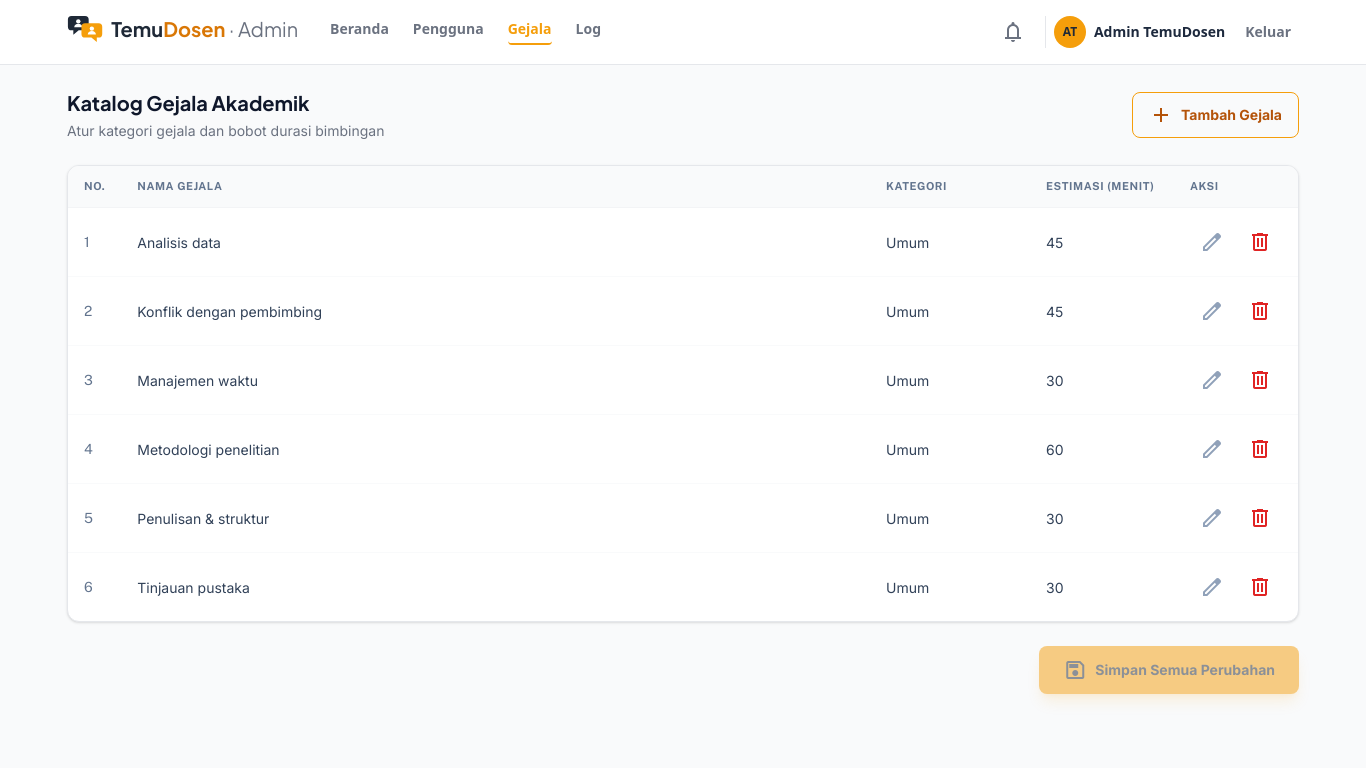
it: SymptomConfig (S-10) › adds a new editable row when "Tambah Gejala" is clicked
Expected: the text "Analisis data" is shown, [137, 234, 221, 250]
// Click "Tambah Gejala"
Click the button "Tambah Gejala" at (1215,115), box [1132, 92, 1299, 138]
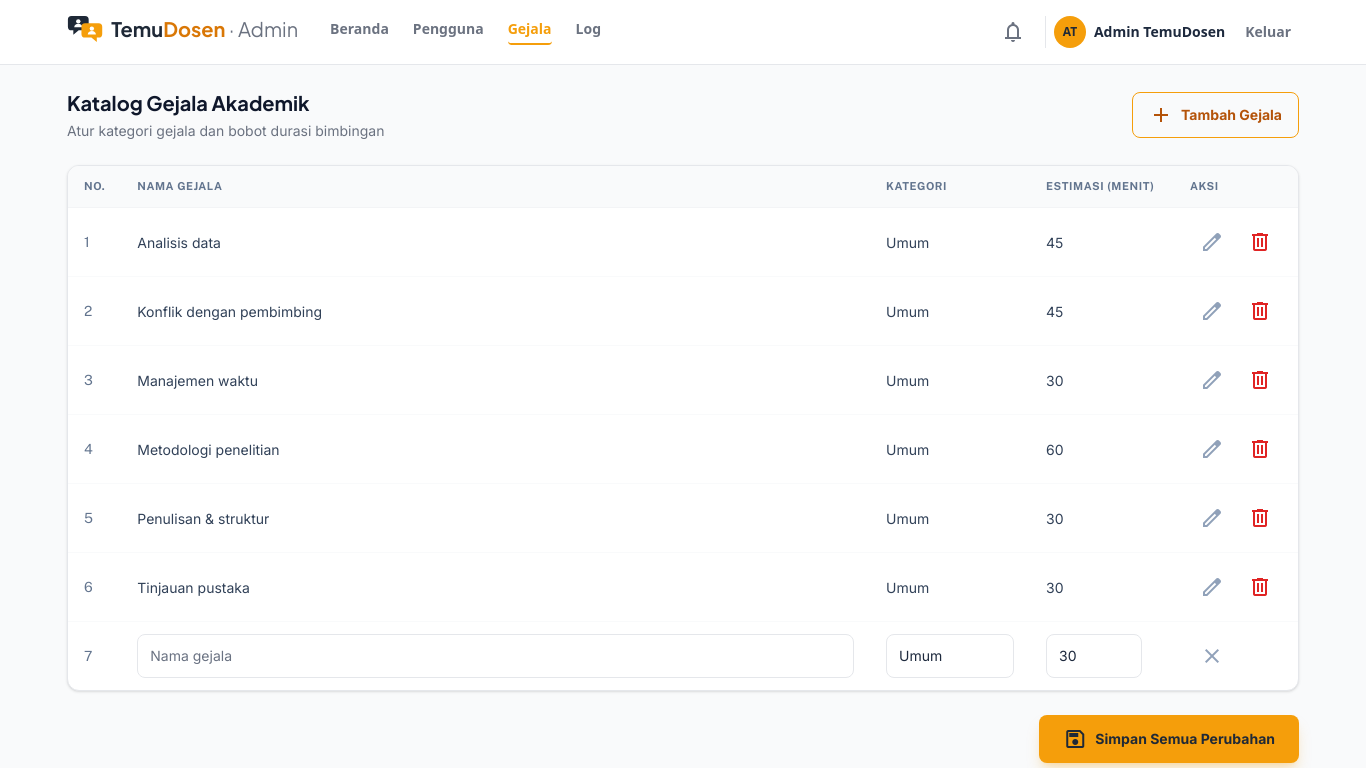
Expected: the field named "Nama gejala baris" is shown, [137, 634, 854, 678]
